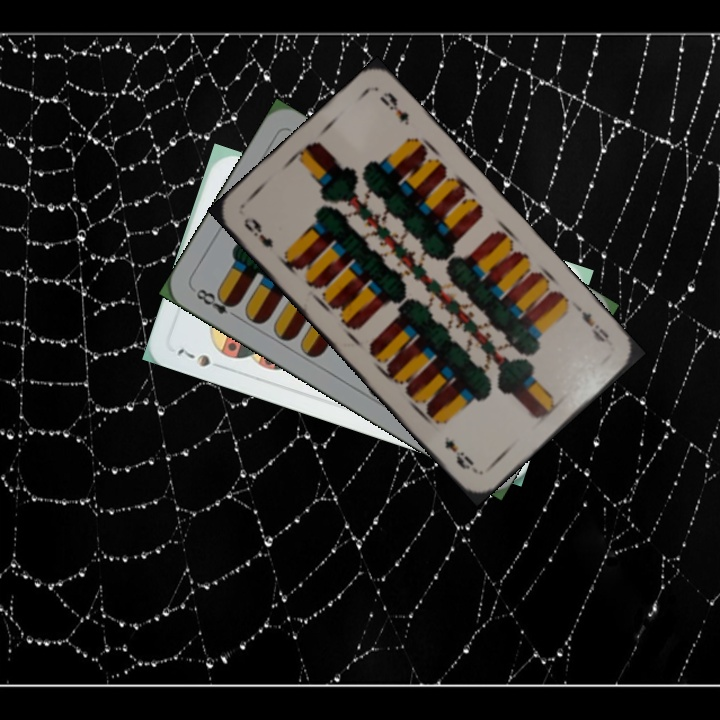E8: (192, 284, 242, 322)
E9: (571, 301, 616, 349), (239, 212, 277, 251)
S7: (173, 344, 213, 370)
